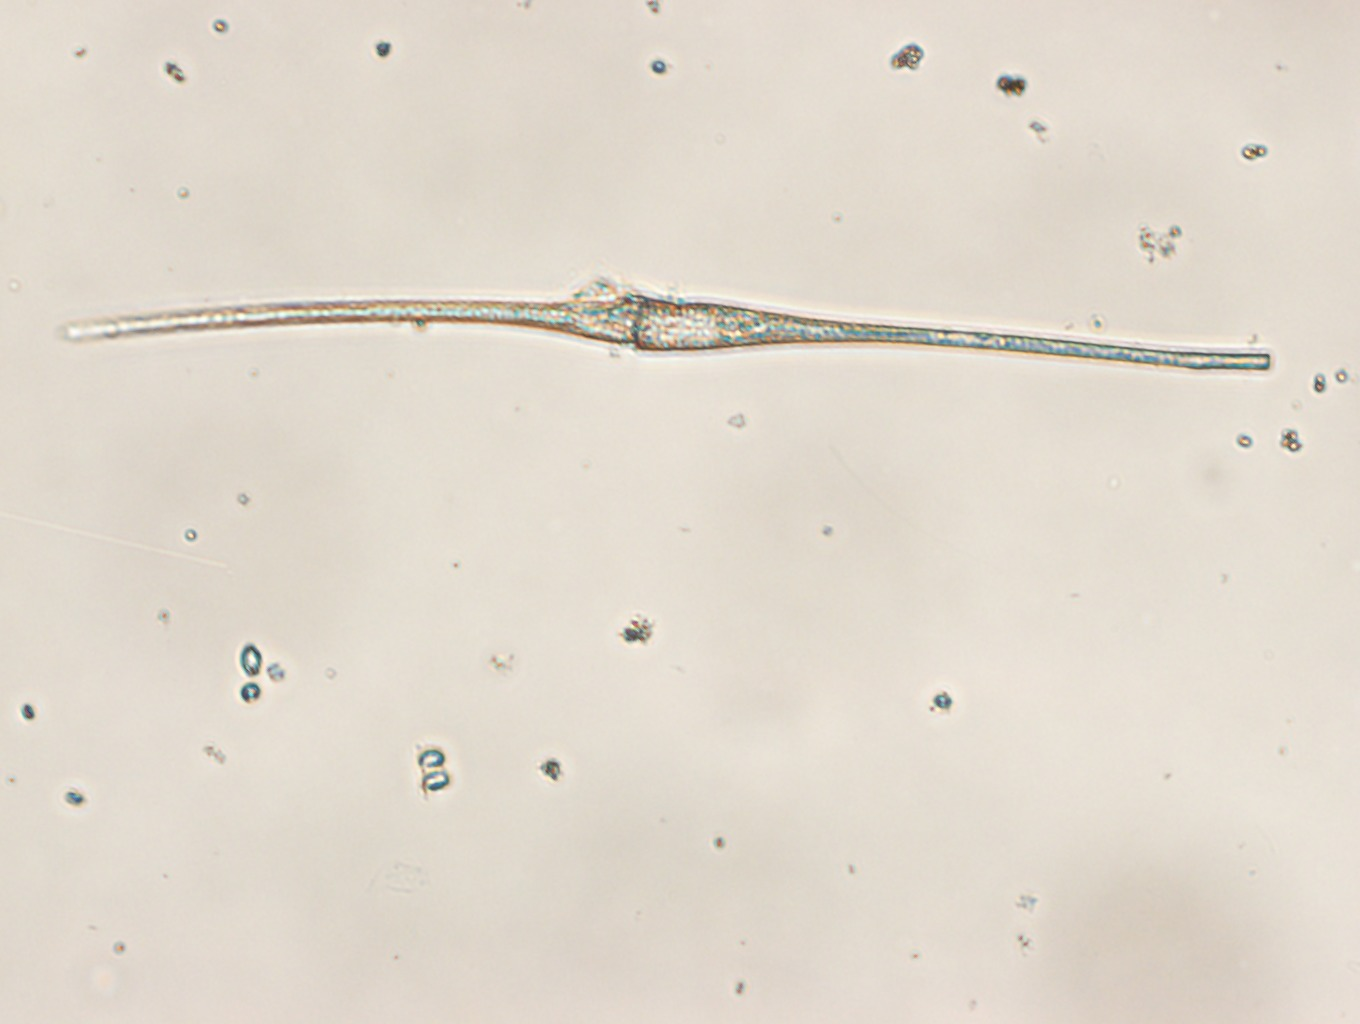ceratium fusus: (65, 291, 1270, 369)
